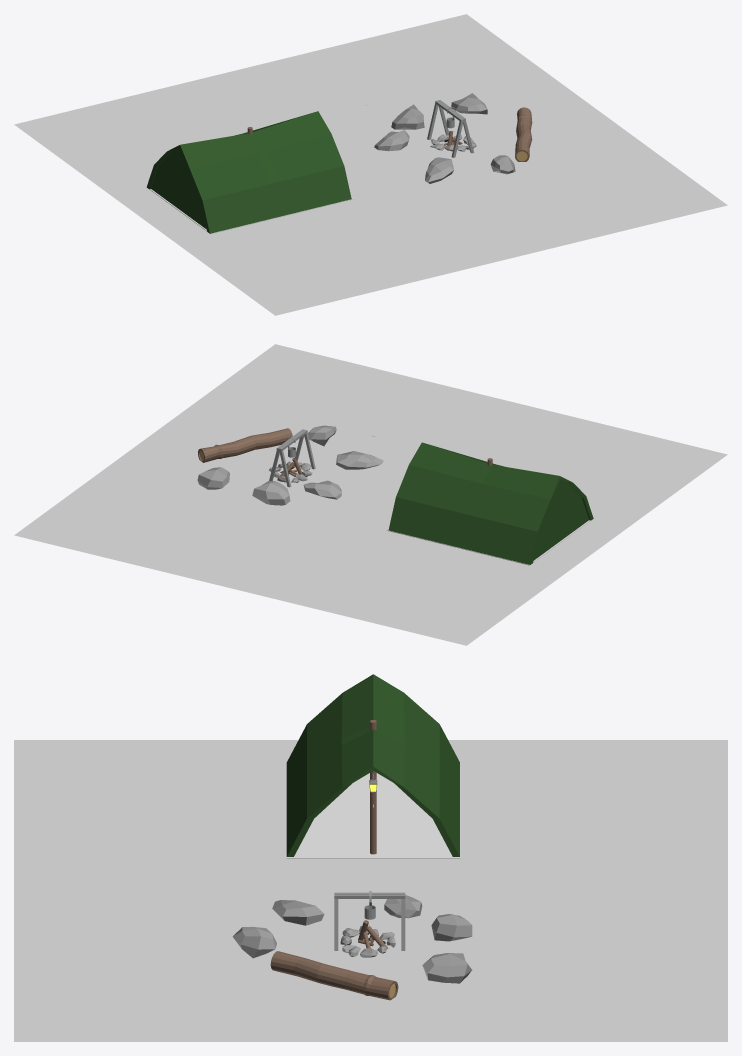
Rendered from CampSite.fbx.
The picture shows the model from 3 angles, top to bottom: view 1: azimuth 30°, elevation 25°; view 2: azimuth 150°, elevation 25°; view 3: azimuth 270°, elevation 25°; orthographic projection. The views are drawn at different scales.
Visible parts, largest first — view 1: Floor, Tent, Log, Bucket, Rock4, Rock1, Rock3, Rock5; view 2: Floor, Tent, Log, Bucket, Rock4, Rock1, Rock3, Rock5; view 3: Floor, Tent, Tent Floor, Log, Rock3, Bucket, Rock2, Rock1, Rock4, Rock5.
Part boxes in pixels (left/top/right/bottom): Floor: left=14, top=14, right=727, bottom=315; Tent: left=146, top=111, right=351, bottom=233; Log: left=515, top=107, right=532, bottom=161; Bucket: left=427, top=100, right=473, bottom=157; Rock4: left=391, top=104, right=424, bottom=129; Rock1: left=425, top=157, right=453, bottom=183; Rock3: left=451, top=93, right=487, bottom=114; Rock5: left=374, top=130, right=409, bottom=151; Floor: left=14, top=344, right=727, bottom=645; Tent: left=388, top=442, right=593, bottom=564; Log: left=198, top=428, right=292, bottom=462; Bucket: left=269, top=429, right=315, bottom=487; Rock4: left=252, top=481, right=290, bottom=505; Rock1: left=336, top=451, right=383, bottom=469; Rock3: left=197, top=467, right=229, bottom=489; Rock5: left=303, top=480, right=341, bottom=499; Floor: left=14, top=740, right=727, bottom=1041; Tent: left=286, top=674, right=459, bottom=856; Tent Floor: left=286, top=763, right=460, bottom=858; Log: left=270, top=951, right=398, bottom=1000; Rock3: left=422, top=953, right=471, bottom=983; Bucket: left=334, top=892, right=405, bottom=950; Rock2: left=232, top=926, right=276, bottom=958; Rock1: left=272, top=900, right=324, bottom=925; Rock4: left=431, top=914, right=472, bottom=941; Rock5: left=384, top=895, right=422, bottom=918.
Size of the model in its own units: 10021 by 2013 by 10021.
